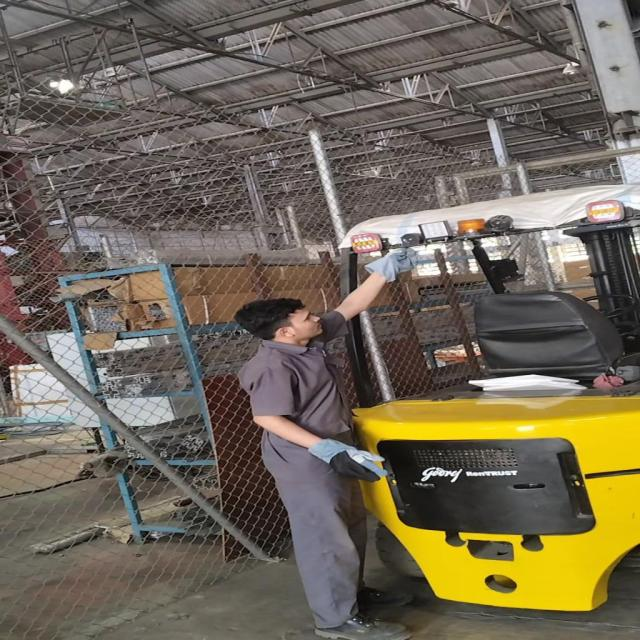Gloves-Detection: (313, 434, 379, 490), (369, 240, 423, 290)
